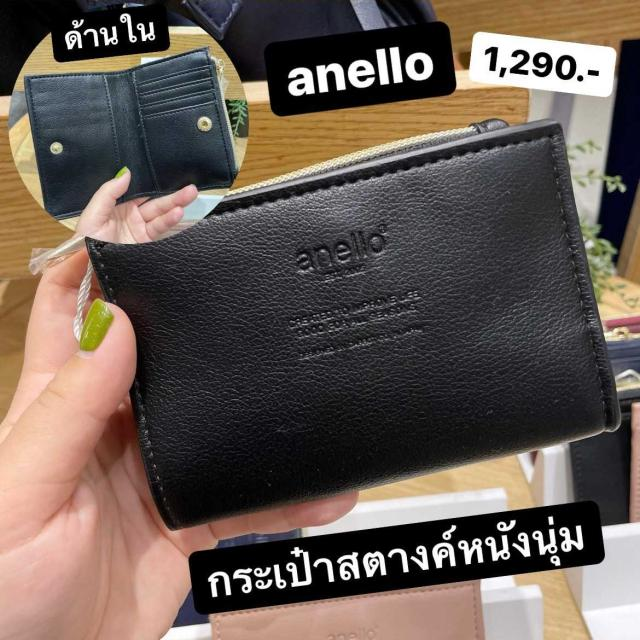Handbag: (55, 118, 636, 526)
